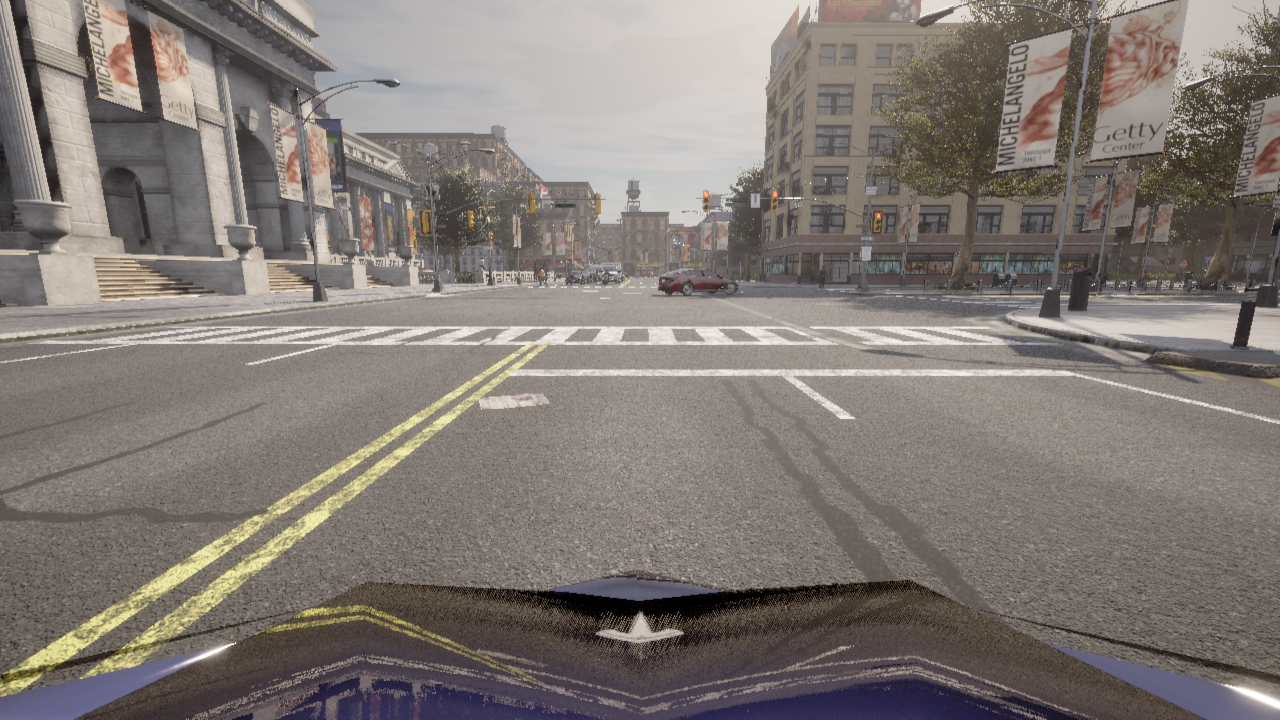cyclist: (0, 569, 1279, 719), (658, 268, 737, 295), (598, 263, 620, 283), (565, 271, 584, 284), (583, 267, 598, 281), (589, 265, 600, 280), (579, 270, 591, 283), (604, 274, 608, 284), (623, 273, 630, 277), (642, 273, 649, 276), (621, 272, 623, 280), (650, 273, 653, 276), (653, 274, 657, 276), (623, 274, 624, 280), (620, 276, 621, 282)
pedestrian: (819, 266, 827, 287), (539, 267, 547, 285)
